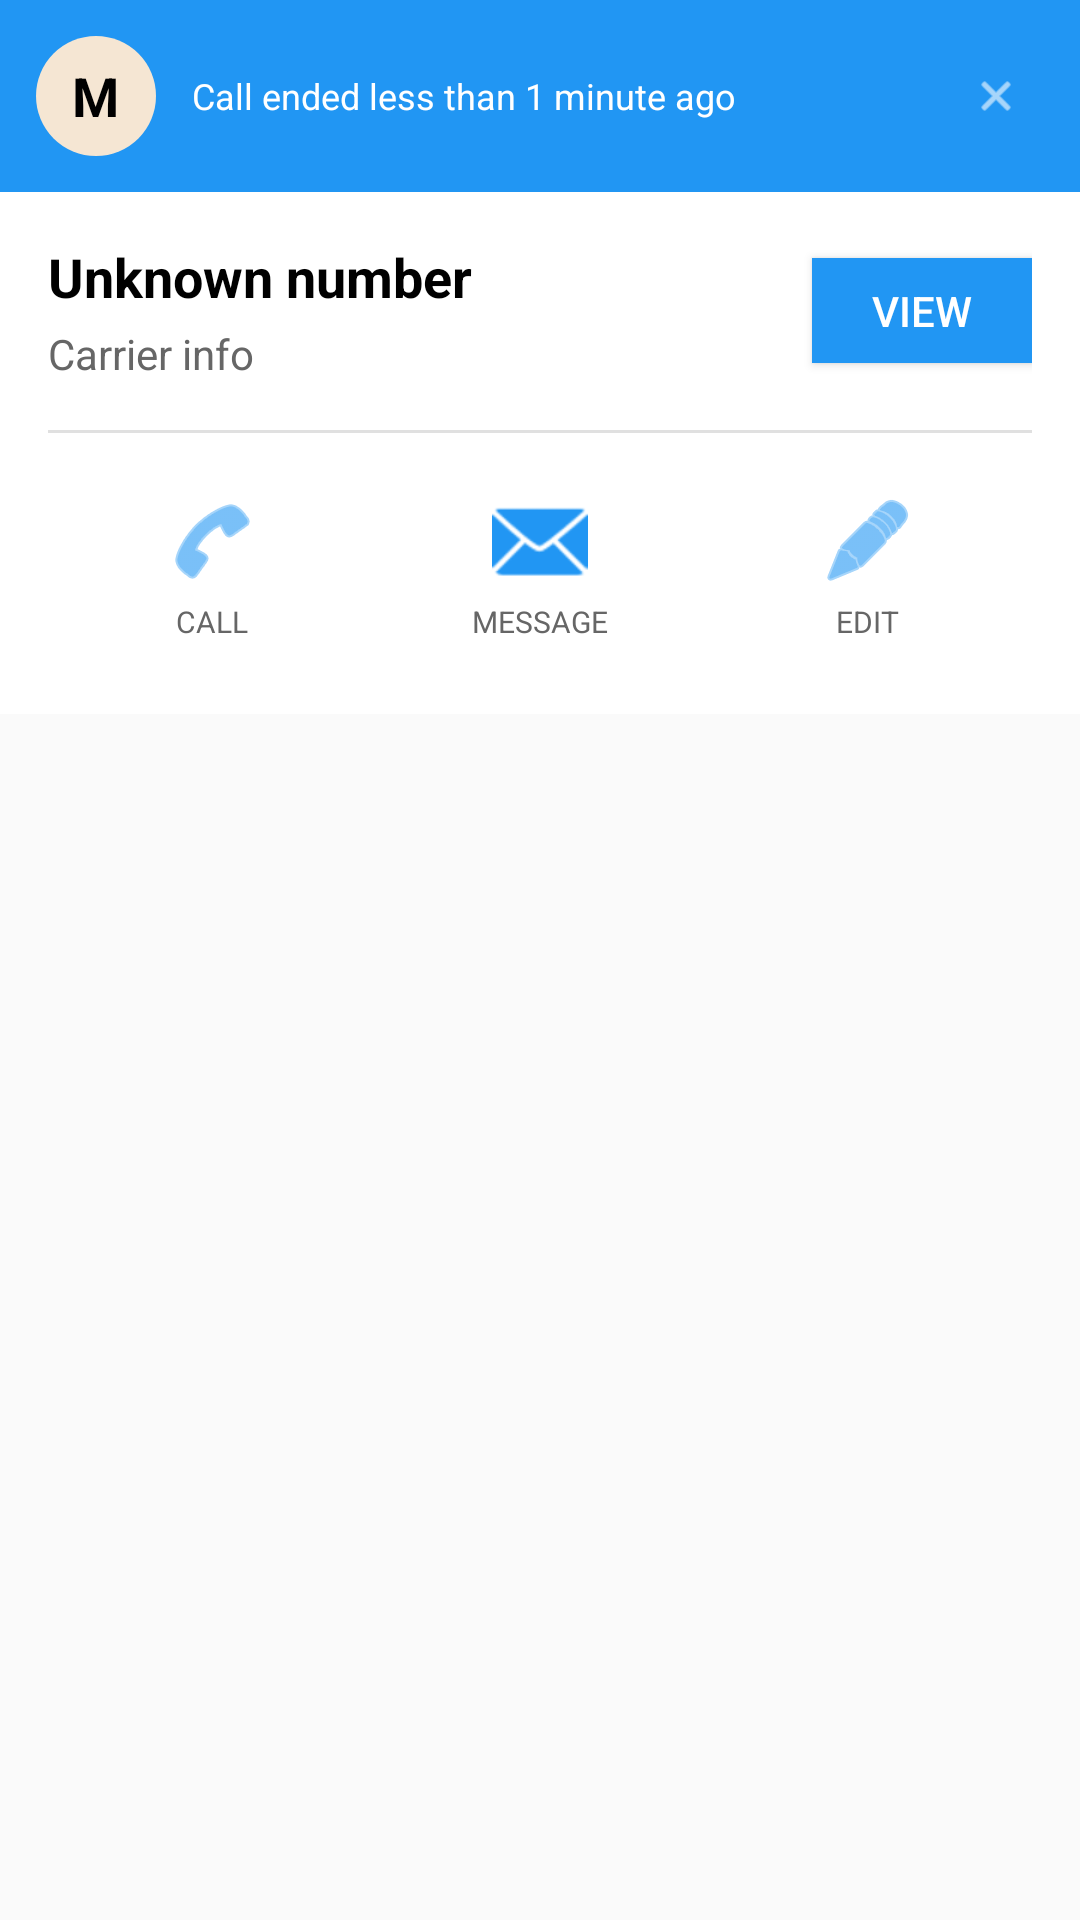

Icon click points for this 1080x1920 phone screenshot, format (x,y):
Close: (996,96)
email: (540,542)
